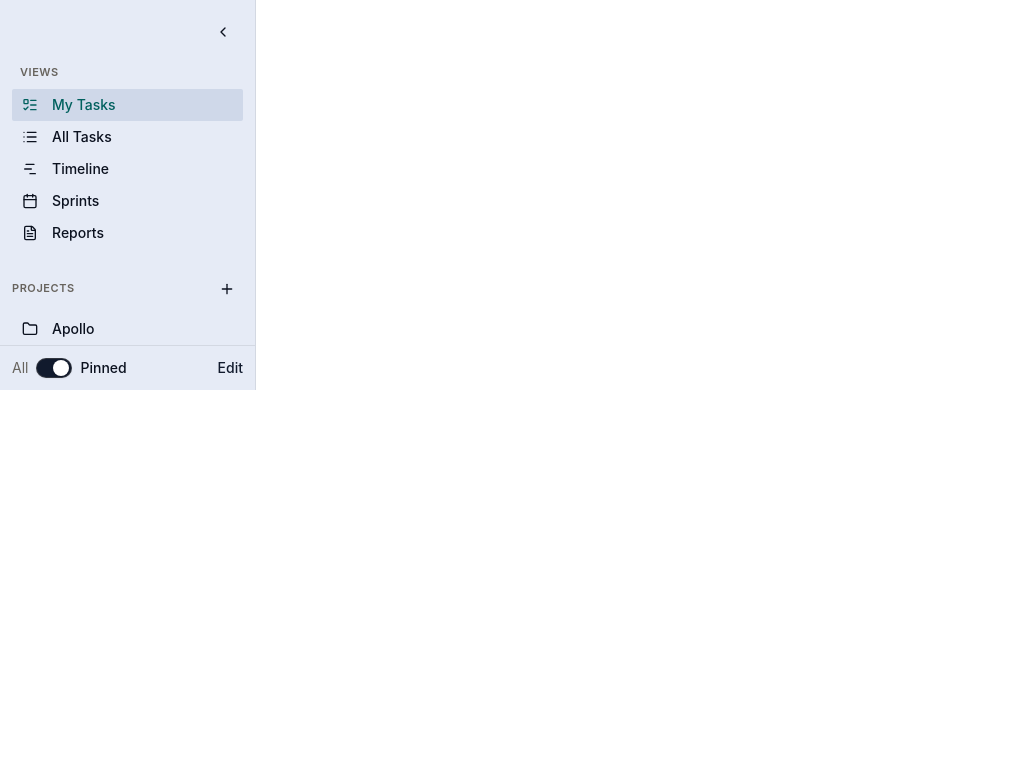
Test: Sidebar — All/Pinned project filtering › opens the project picker from the footer Edit link in Pinned view
Check: the text "Pinned Projects" is not shown
Click the button "Edit". click: [230, 368]
box: [218,358,243,378]
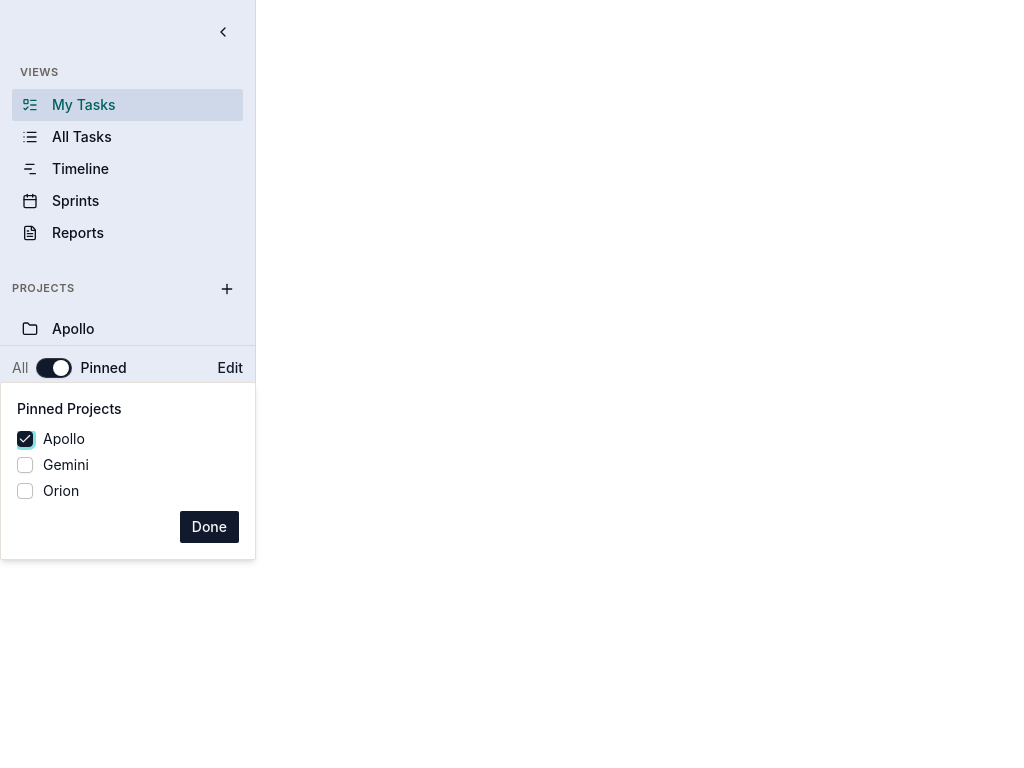
Check: the text "Pinned Projects" is shown, box [17,400,122,417]
